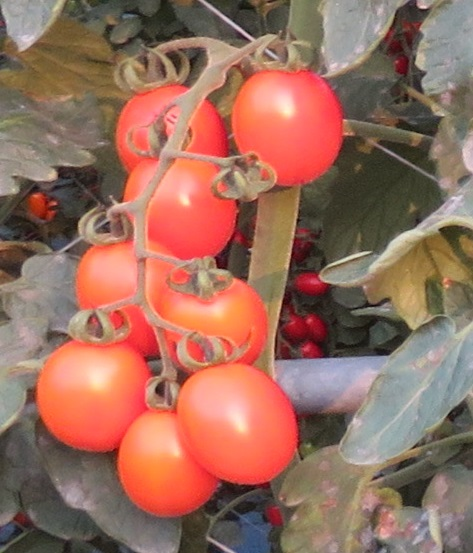orange: (77, 241, 182, 345), (113, 81, 228, 163)
red: (176, 359, 306, 480), (32, 340, 156, 455), (233, 66, 352, 183), (118, 406, 220, 521), (126, 155, 239, 257), (159, 277, 276, 365)
